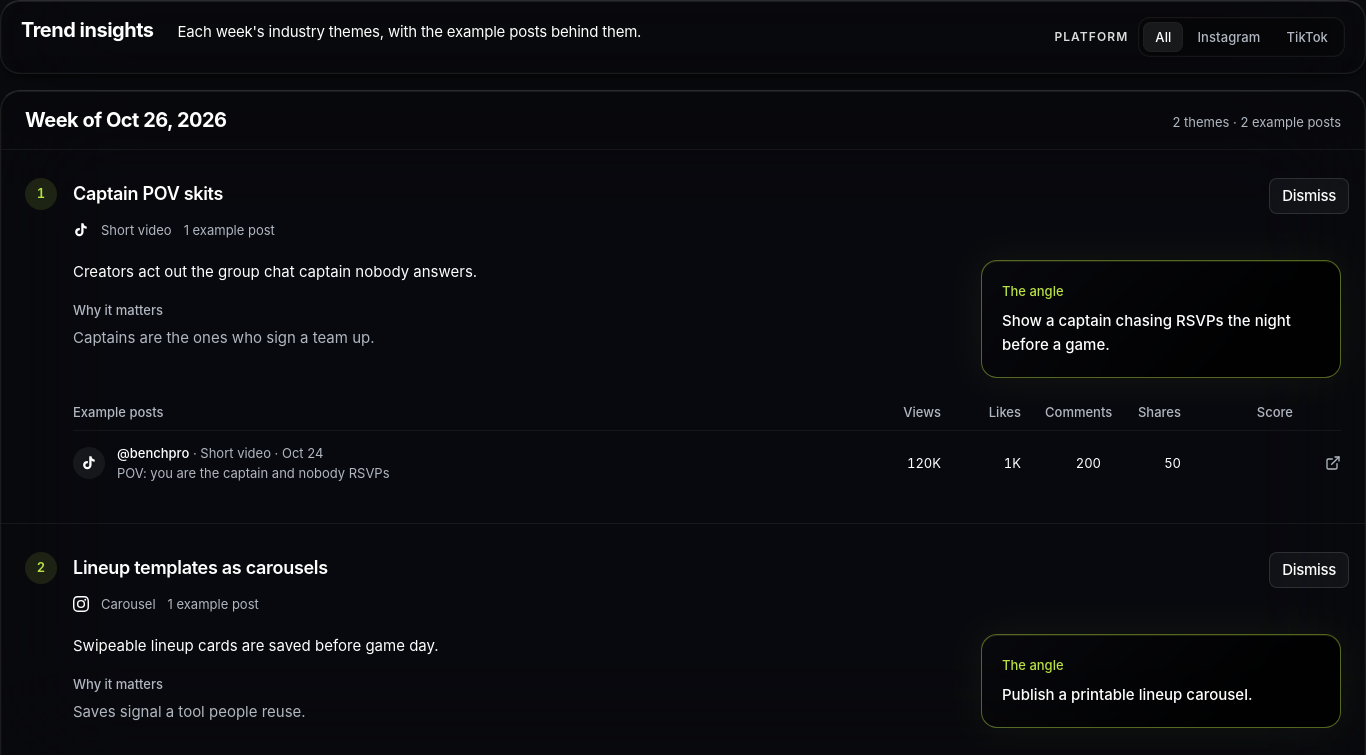
TrendInsightsSection › keeps a theme that was not dismissed, with no failure message: the list shows the true state
Check: the heading "Captain POV skits" is shown, box [73, 178, 223, 206]
Click the button "Dismiss" in the row of "Captain POV skits" at (1309, 196), box [1269, 178, 1349, 214]
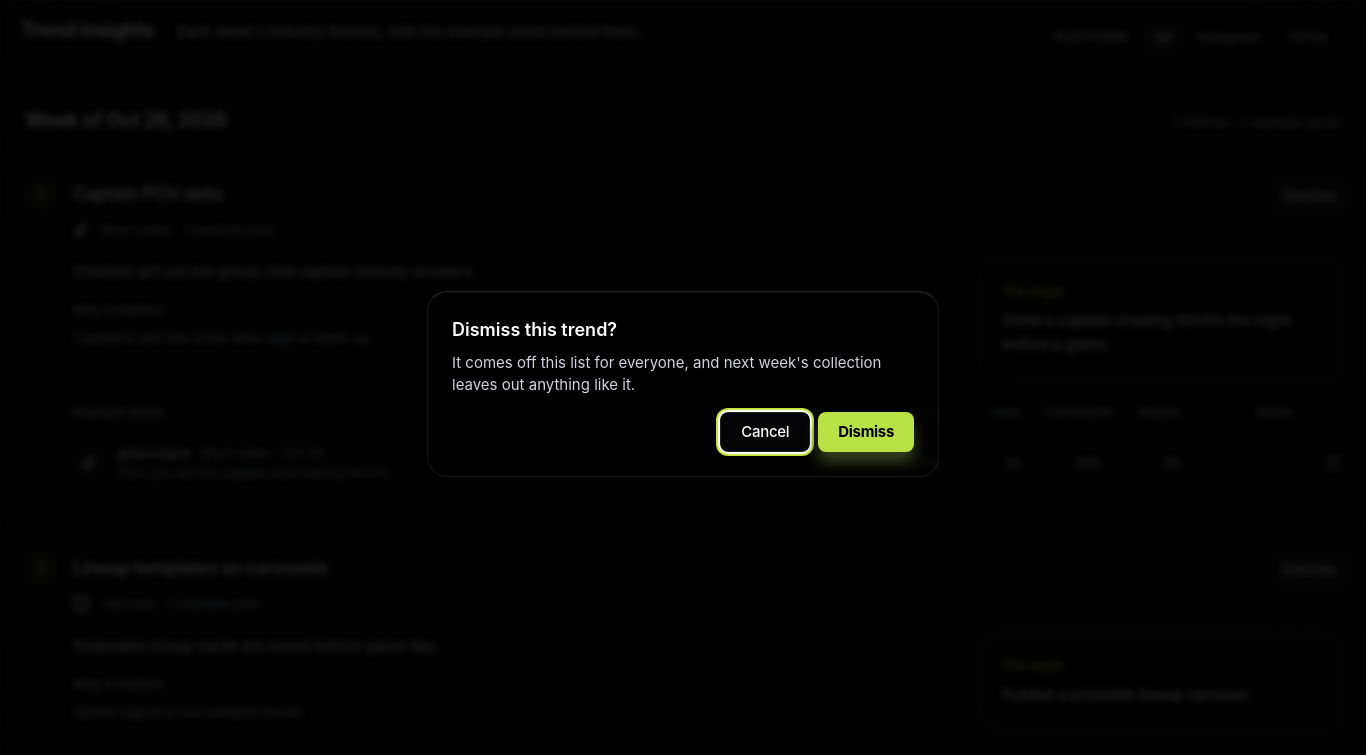
Click the button "Dismiss" at (866, 432), box [818, 412, 914, 452]
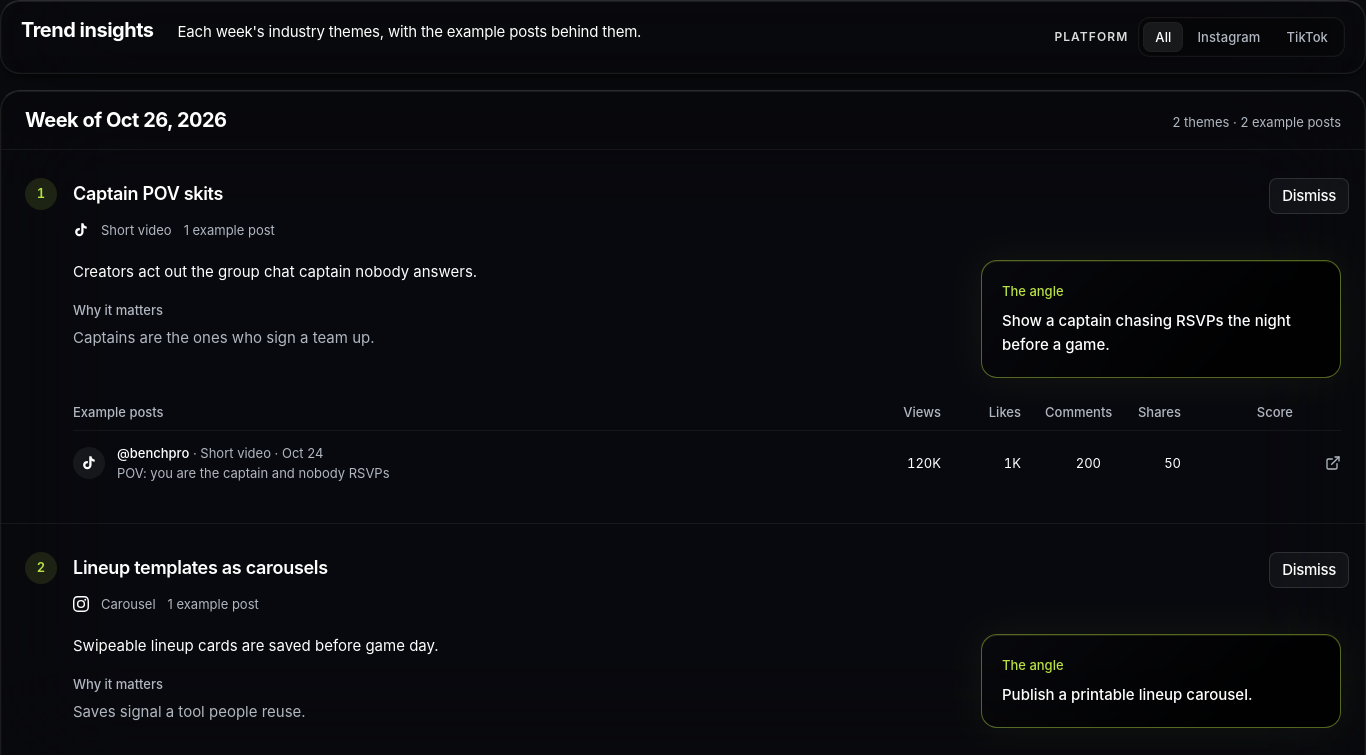
Check: the heading "Captain POV skits" is shown, box [73, 178, 223, 206]
Check: the dialog is gone
